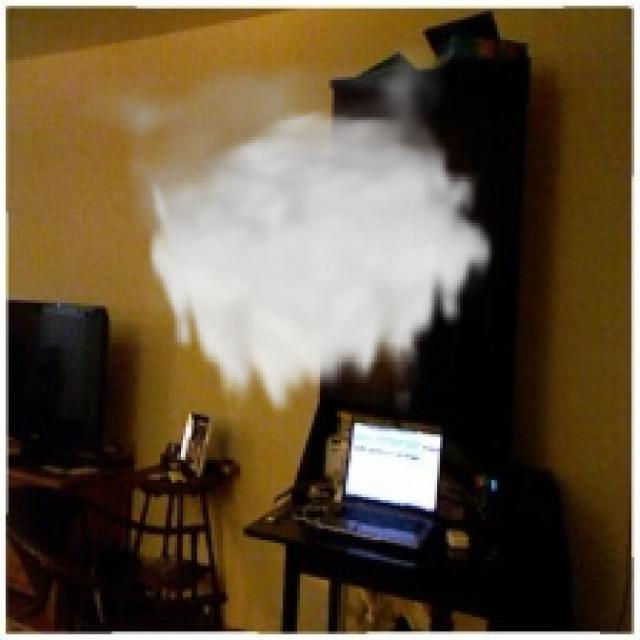Smoke: (72, 34, 497, 423)
